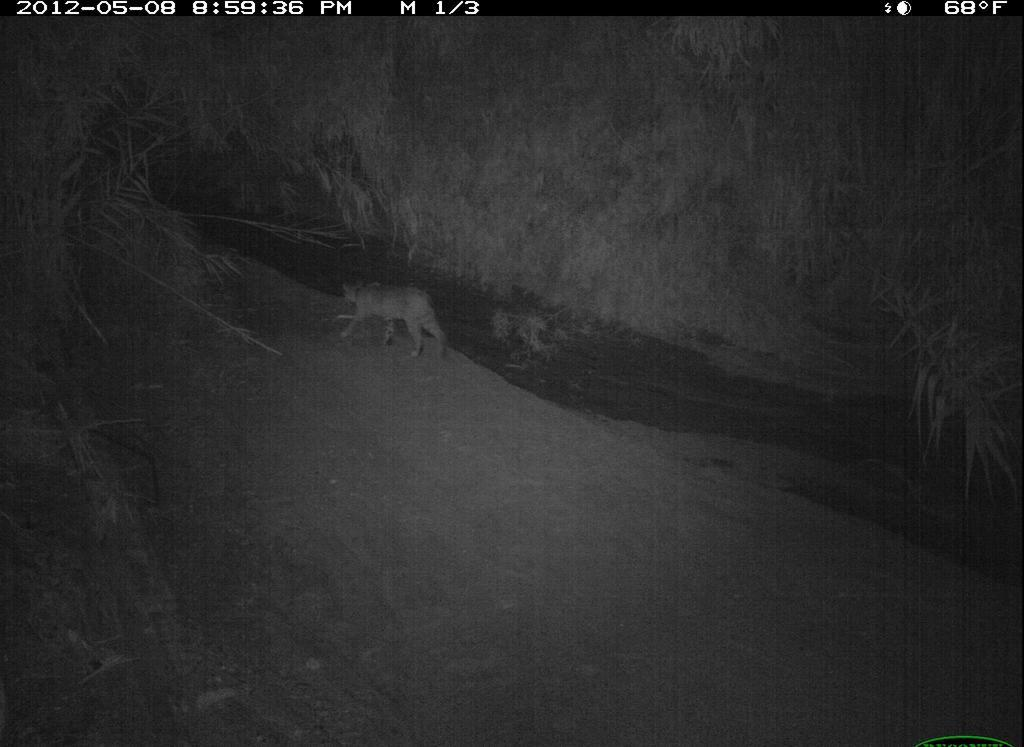bobcat: (671, 551, 915, 740)
